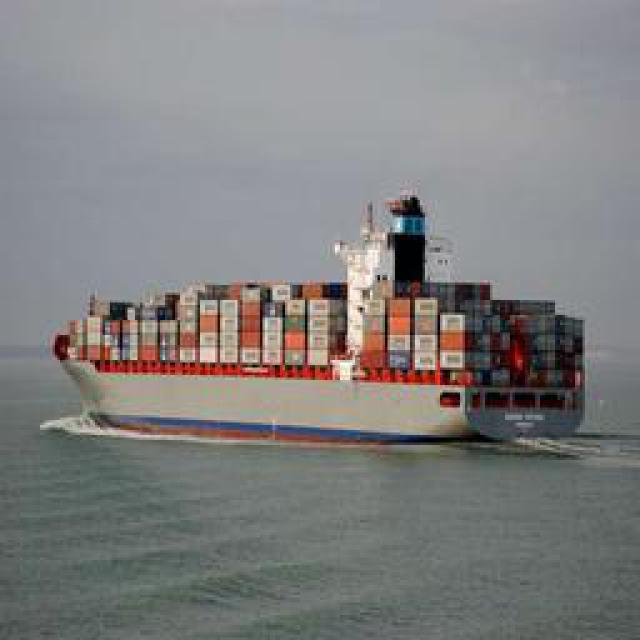Ship: (26, 185, 591, 453)
